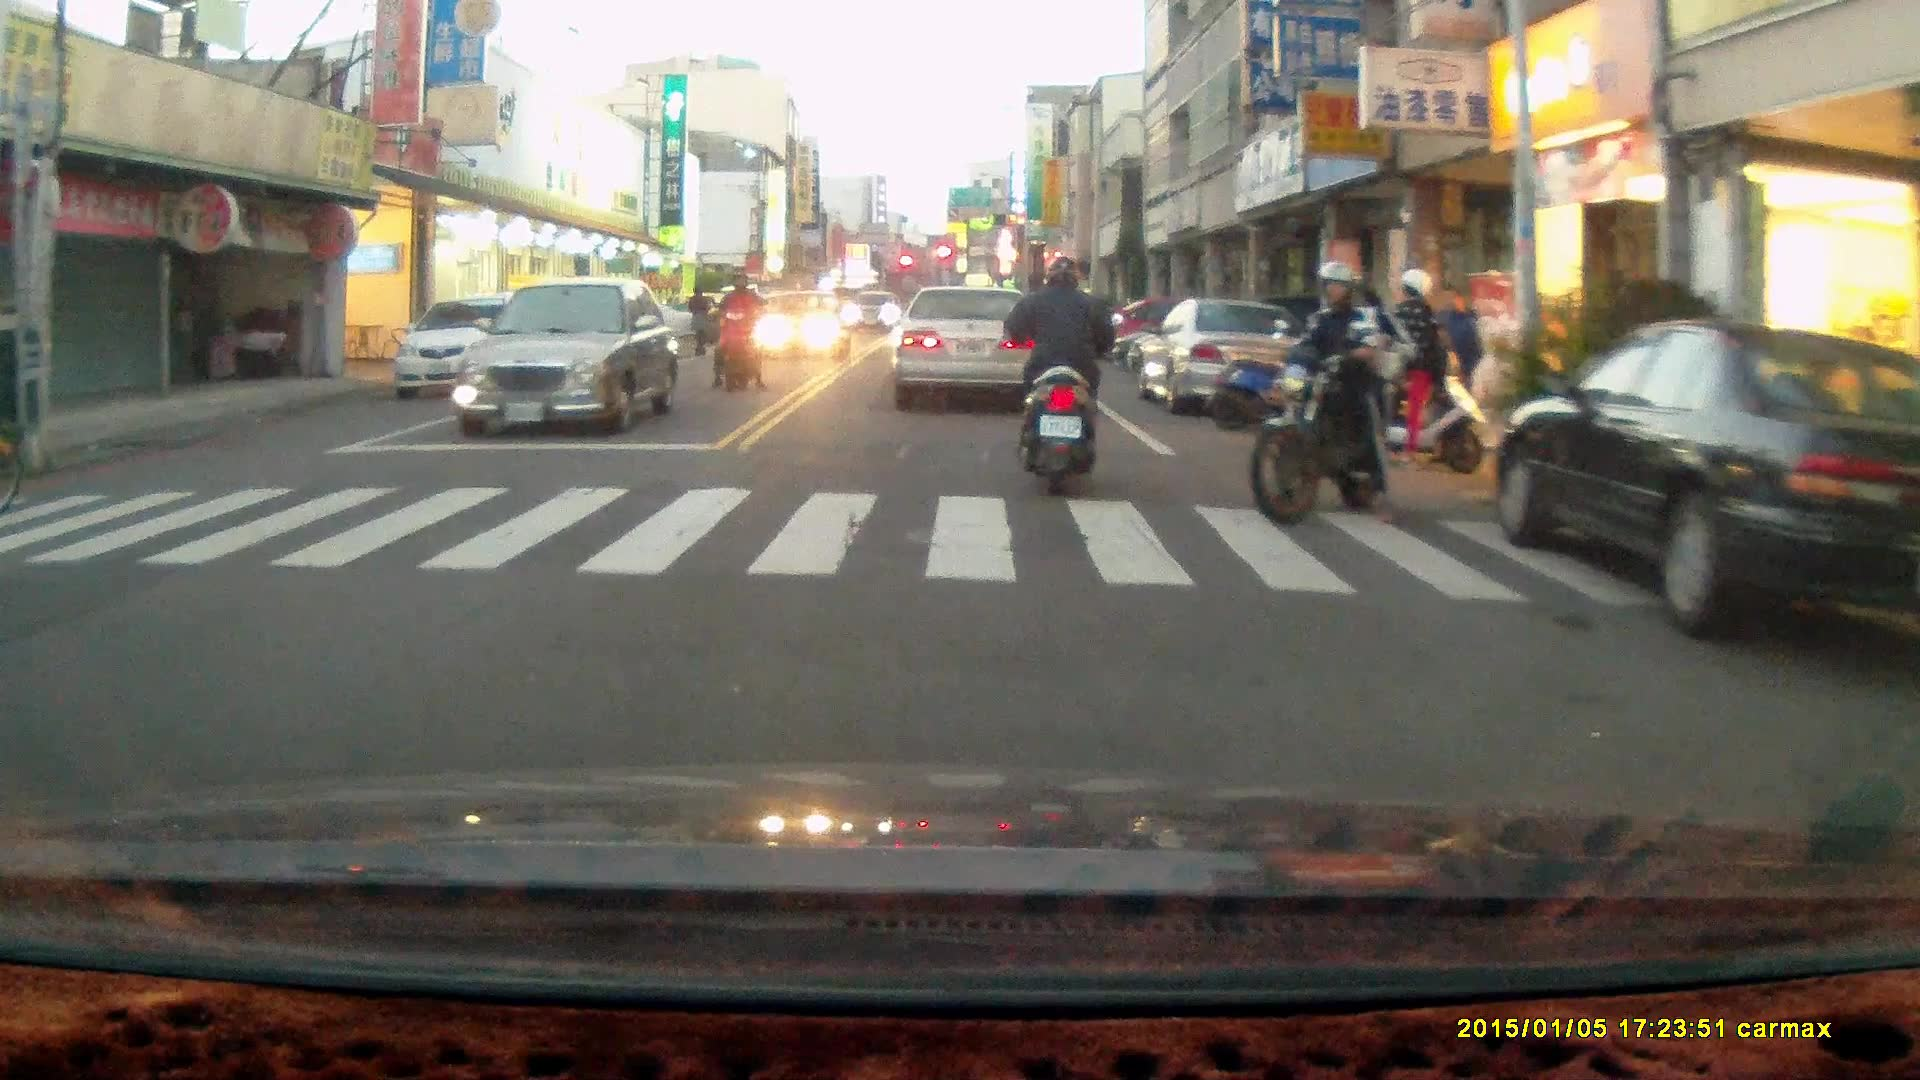pedestrian: (1386, 267, 1444, 458), (1432, 282, 1482, 441), (684, 283, 711, 357)
rider: (1250, 255, 1465, 525), (1003, 249, 1121, 496), (709, 263, 767, 393)
vehicle: (1499, 319, 1920, 640), (459, 277, 683, 438), (1134, 299, 1311, 415), (889, 286, 1044, 414), (393, 290, 553, 406), (749, 287, 848, 364)
